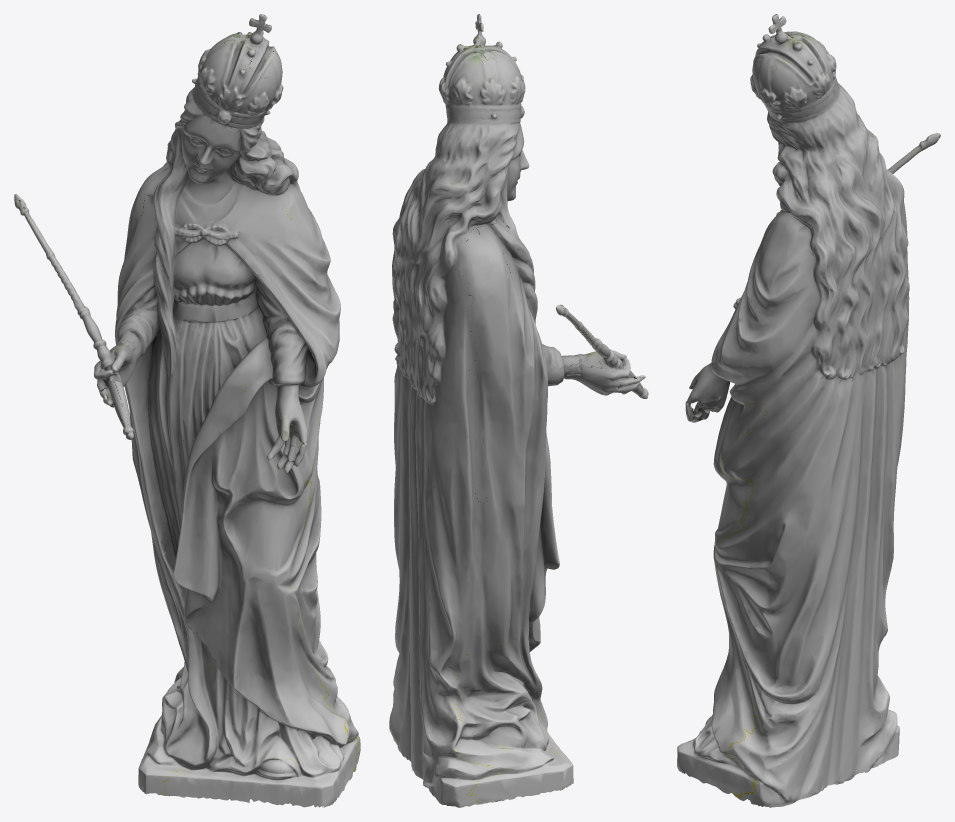
File: statue1.glb
3 renders of one model, left to right at view 1: azimuth 30°, elevation 25°; view 2: azimuth 150°, elevation 25°; view 3: azimuth 270°, elevation 25°, orthographic. The views are drawn at different scales.
Visible parts, largest first — view 1: Object_2; view 2: Object_2; view 3: Object_2.
Part boxes in pixels (x1,y1,x2,y2): Object_2: (14, 14, 360, 807); Object_2: (389, 14, 648, 807); Object_2: (677, 14, 940, 807).
Bounding box in the file's own units: 0.4227 × 1.2 × 0.3803.
Materials: 1 (1 with a texture image).
